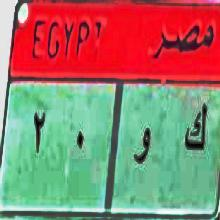0: (72, 123, 92, 163)
2: (28, 105, 50, 160)
kaaf: (184, 102, 209, 160)
waw: (134, 119, 153, 170)
